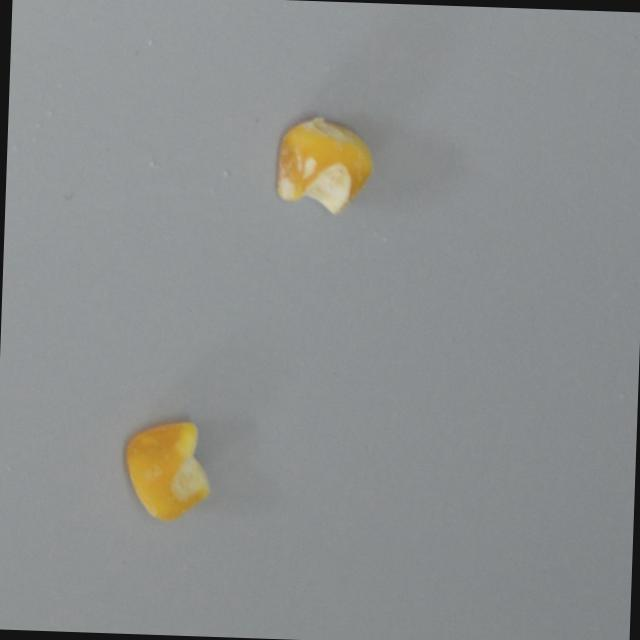no_canjicado: (121, 417, 212, 524)
pelicula: (275, 116, 376, 216)
